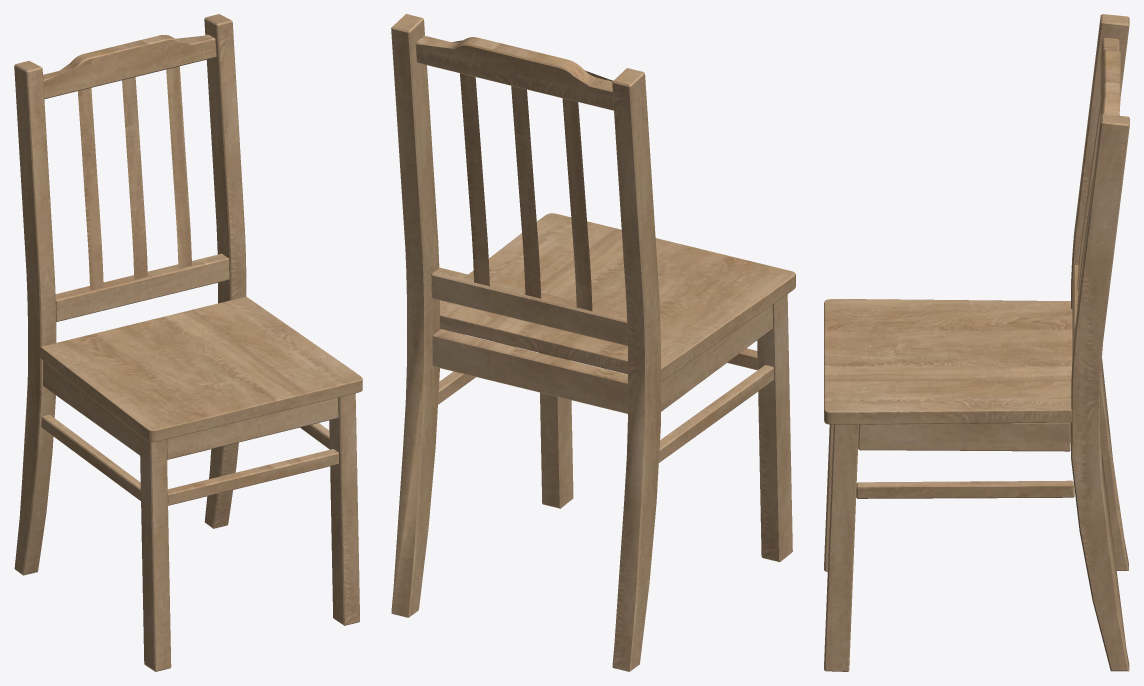
The model's file is Chair.glb.
3 renders of one model, left to right at view 1: azimuth 30°, elevation 25°; view 2: azimuth 150°, elevation 25°; view 3: azimuth 270°, elevation 25°, orthographic. The views are drawn at different scales.
Visible parts, largest first — view 1: 3d66-Editable_mesh-20421417-002; view 2: 3d66-Editable_mesh-20421417-002; view 3: 3d66-Editable_mesh-20421417-002.
Part boxes in pixels (x1,y1,x2,y2): 3d66-Editable_mesh-20421417-002: (14,14,362,671); 3d66-Editable_mesh-20421417-002: (391,14,795,671); 3d66-Editable_mesh-20421417-002: (824,14,1129,671).
Size of the model in its own units: 0.4177 by 0.9461 by 0.4761.
Materials: 1 (1 with a texture image).
